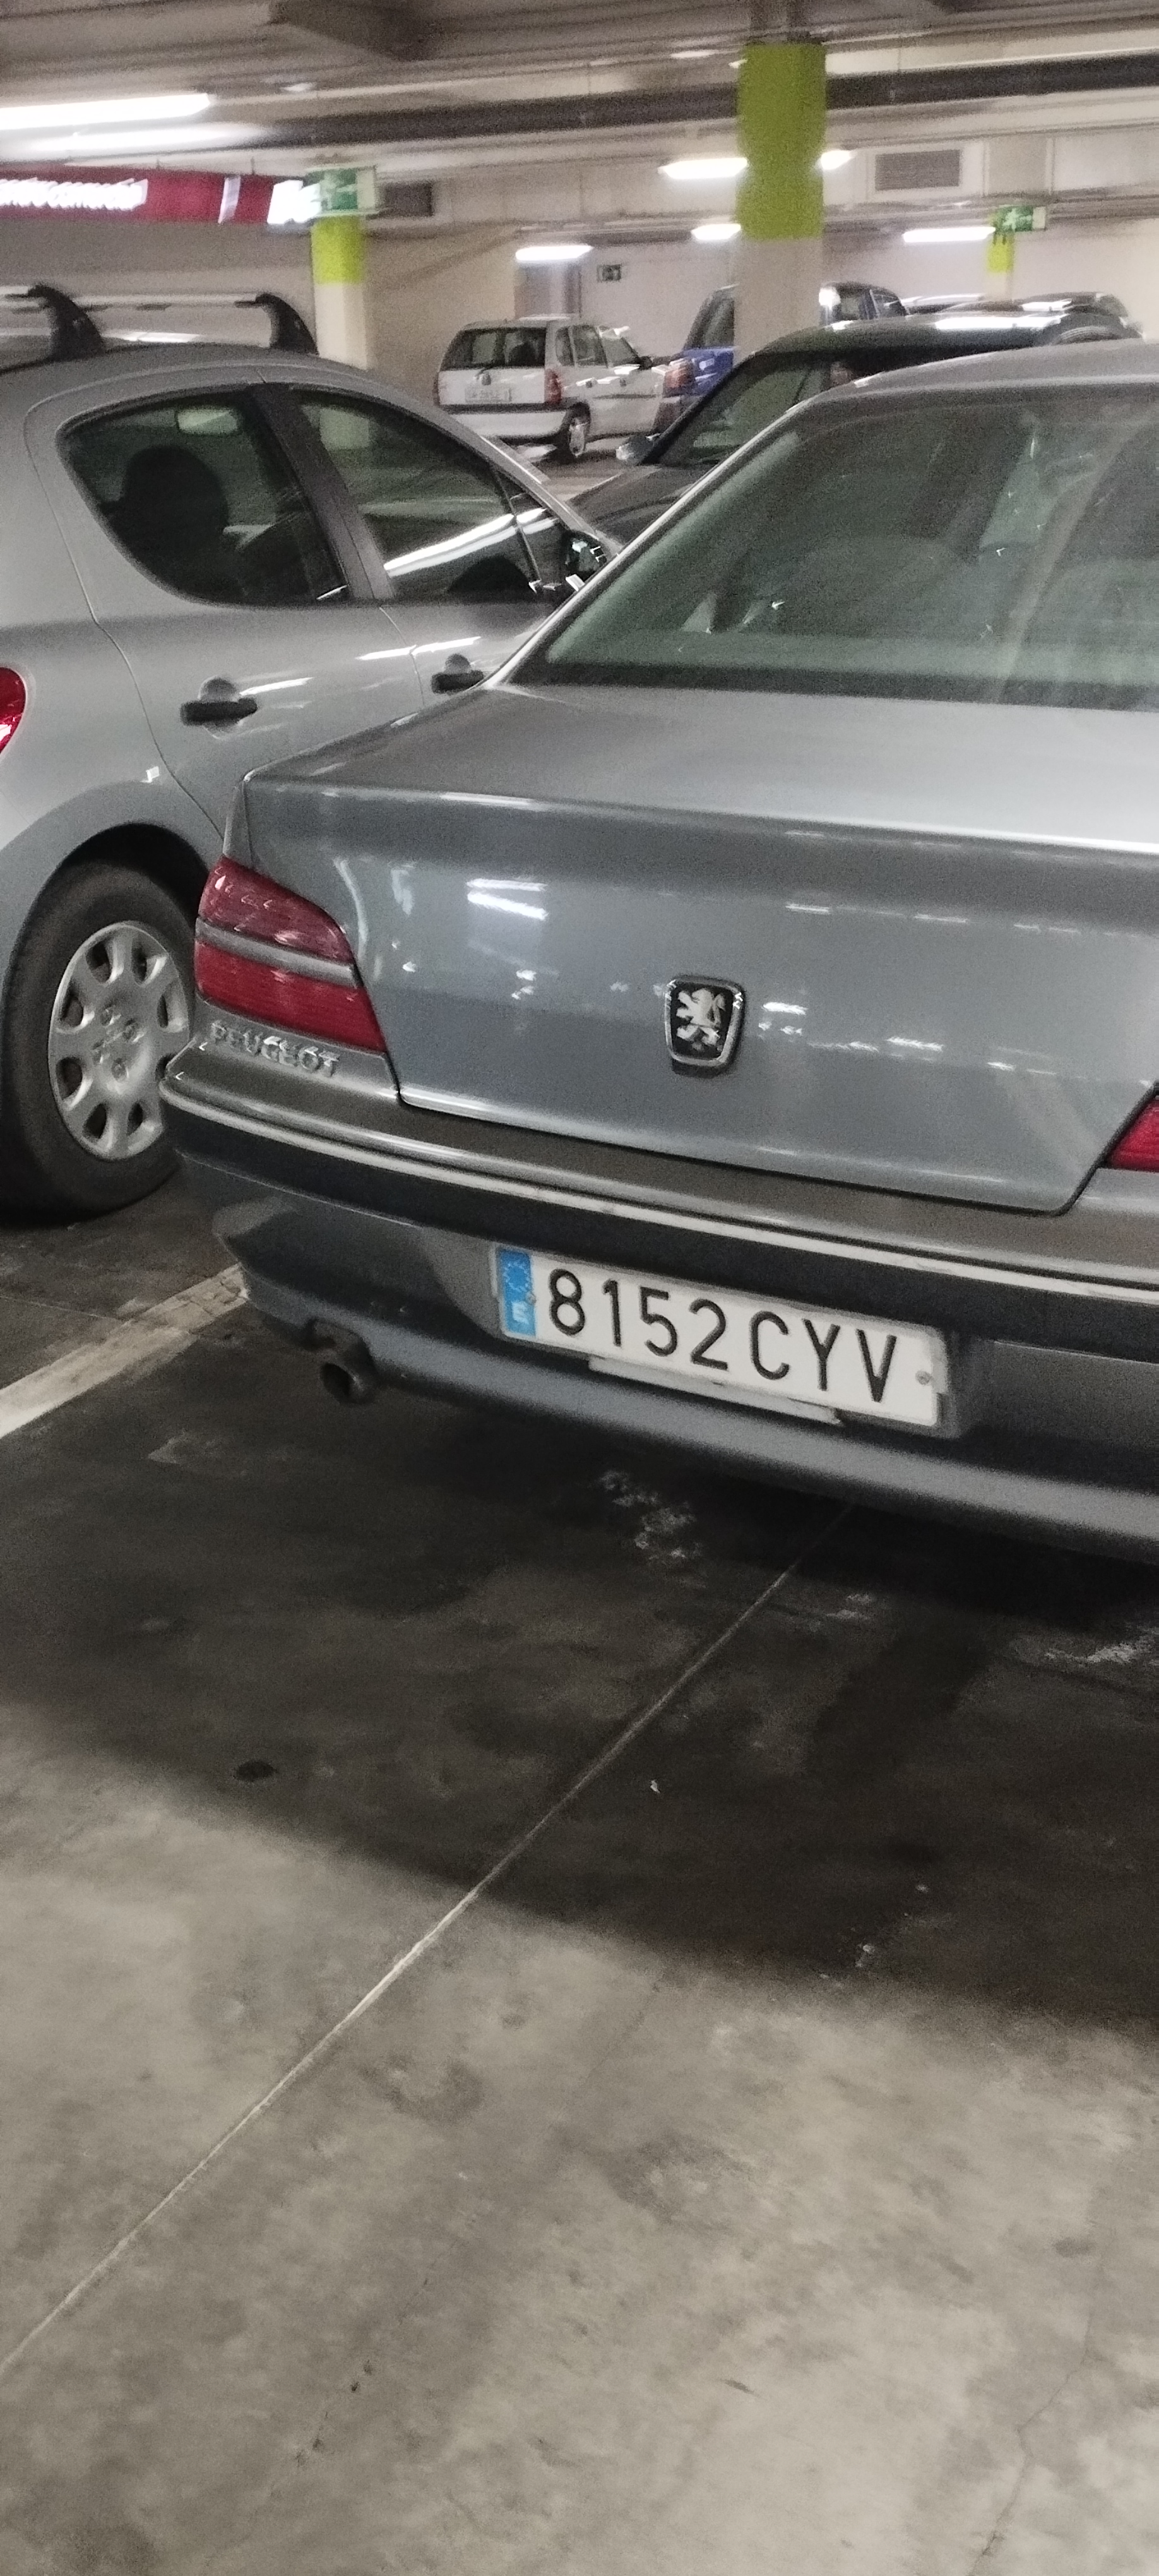Car: (172, 372, 1158, 1607)
Plate: (493, 1237, 956, 1339)
